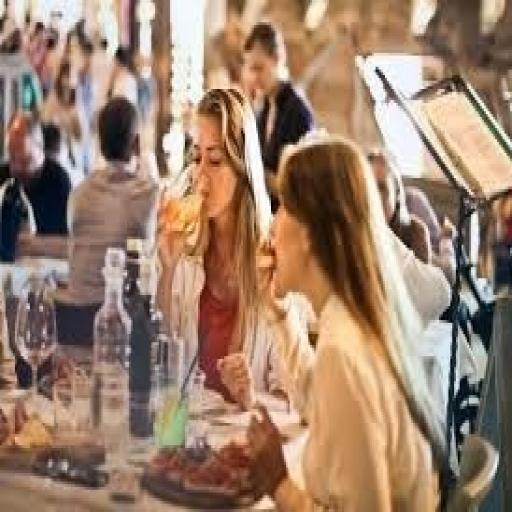eating: (243, 131, 454, 509)
